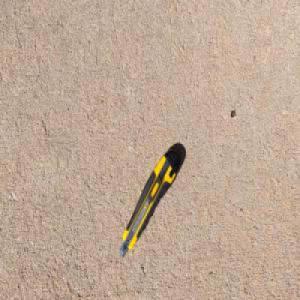Cutter: (119, 146, 182, 259)
